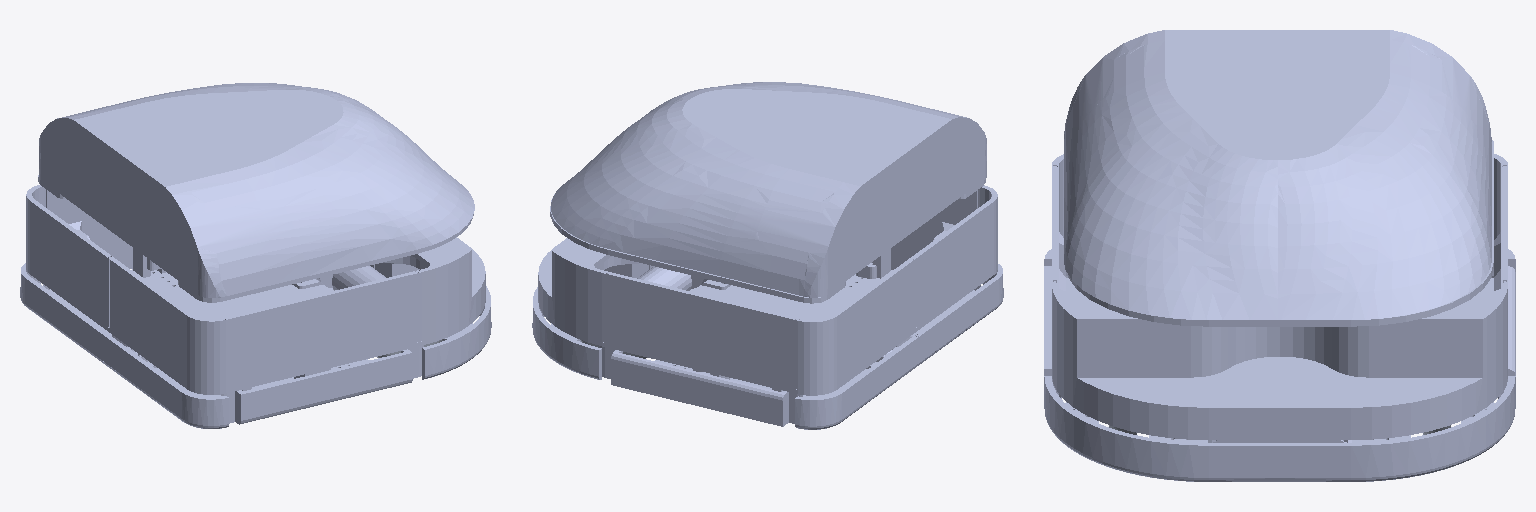
robot.urdf — bada_g2_description:
<?xml version="1.0" encoding="utf-8"?>
<!-- This URDF was automatically created by SolidWorks to URDF Exporter! Originally created by [author] ([email redacted]) 
     Commit Version: 1.5.1-0-g916b5db  Build Version: 1.5.7152.31018
     For more information, please see http://wiki.ros.org/sw_urdf_exporter -->
<robot
  name="bada_g2_description">
  <link
    name="base_footprint_link">
  </link>
  <link
    name="base_link">
    <inertial>
      <origin
        xyz="0 0 0.137811398780425"
        rpy="0 0 0" />
      <mass
        value="7.21845660038506" />
      <inertia
        ixx="0.0406882353905042"
        ixy="1.07764868445934E-06"
        ixz="0.00163731386802838"
        iyy="0.0420116717478872"
        iyz="1.3334920258216E-06"
        izz="0.0765562030870485" />
    </inertial>
    <visual>
      <origin
        xyz="0 0 0"
        rpy="0 0 0" />
      <geometry>
        <mesh
          filename="package://bada_g2_description/meshes/base_link.STL" />
      </geometry>
      <material
        name="">
        <color
          rgba="0.792156862745098 0.819607843137255 0.933333333333333 1" />
      </material>
    </visual>
    <collision>
      <origin
        xyz="0 0 0"
        rpy="0 0 0" />
      <geometry>
        <mesh
          filename="package://bada_g2_description/meshes/base_link.STL" />
      </geometry>
    </collision>
    <collision name="caster_front_collision">
      <origin rpy=" 0 0 0" xyz="-0.13 0 -0.0052"/>
      <geometry>
      <sphere radius="0.007"/>
      </geometry>
      <surface>
      <friction>
        <ode>
        <mu>0</mu>
        <mu2>0</mu2>
        <slip1>1.0</slip1>
        <slip2>1.0</slip2>
        </ode>
      </friction>
      </surface>
    </collision>
    <visual name="caster_front_visual">
      <origin rpy=" 0 0 0" xyz="-0.13 0 -0.0052"/>
      <geometry>
      <sphere radius="0.007"/>
      </geometry>
    </visual>
  </link>
  <joint
    name="base_link_joint"
    type="fixed">
    <origin
      xyz="0 0 -0.075"
      rpy="0 0 0" />
    <parent
      link="base_footprint_link" />
    <child
      link="base_link" />
    <axis
      xyz="0 0 0" />
  </joint>
  <link
    name="L_link">
    <inertial>
      <origin
        xyz="2.77555756156289E-17 -0.0105 0"
        rpy="0 0 0" />
      <mass
        value="0.0812700200410188" />
      <inertia
        ixx="4.08495570817307E-05"
        ixy="-9.67407626570133E-20"
        ixz="-2.33937016987653E-21"
        iyy="7.66250906473836E-05"
        iyz="-2.5553360511772E-22"
        izz="4.08495570817308E-05" />
    </inertial>
    <visual>
      <origin
        xyz="0 0 0"
        rpy="0 0 0" />
      <geometry>
        <mesh
          filename="package://bada_g2_description/meshes/L_link.STL" />
      </geometry>
      <material
        name="">
        <color
          rgba="0.666666666666667 0.698039215686274 0.768627450980392 1" />
      </material>
    </visual>
    <collision>
      <origin
        xyz="0 0 0"
        rpy="0 0 0" />
      <geometry>
        <mesh
          filename="package://bada_g2_description/meshes/L_link.STL" />
      </geometry>
    </collision>
  </link>
  <joint
    name="L_joint"
    type="continuous">
    <origin
      xyz="0.0783012581840955 0.120003013664007 0.0330000000000001"
      rpy="0 0 0" />
    <parent
      link="base_link" />
    <child
      link="L_link" />
    <axis
      xyz="0 1 0" />
  </joint>
  <link
    name="R_link">
    <inertial>
      <origin
        xyz="-2.77555756156289E-17 0.0105 0"
        rpy="0 0 0" />
      <mass
        value="0.0812700200410188" />
      <inertia
        ixx="4.08495570817307E-05"
        ixy="-9.67407626570133E-20"
        ixz="-2.33937016987653E-21"
        iyy="7.66250906473836E-05"
        iyz="-2.5553360511772E-22"
        izz="4.08495570817308E-05" />
    </inertial>
    <visual>
      <origin
        xyz="0 0 0"
        rpy="0 0 0" />
      <geometry>
        <mesh
          filename="package://bada_g2_description/meshes/R_link.STL" />
      </geometry>
      <material
        name="">
        <color
          rgba="0.666666666666667 0.698039215686274 0.768627450980392 1" />
      </material>
    </visual>
    <collision>
      <origin
        xyz="0 0 0"
        rpy="0 0 0" />
      <geometry>
        <mesh
          filename="package://bada_g2_description/meshes/R_link.STL" />
      </geometry>
    </collision>
  </link>
  <joint
    name="R_joint"
    type="continuous">
    <origin
      xyz="0.0783012581840955 -0.120003013664007 0.0330000000000001"
      rpy="0 0 0" />
    <parent
      link="base_link" />
    <child
      link="R_link" />
    <axis
      xyz="0 1 0" />
  </joint>


  <!-- rplidar -->

  <joint name="rplidar_joint" type="fixed">
    <axis xyz="0 1 0" />
    <origin xyz="0.145 0 0.085" rpy="0 0 0"/> <!--rpy : 0 0 3.14-->
    <parent link="base_link"/>
    <child link="laser"/>
  </joint>


  <link name="laser">
    <collision>
      <origin xyz="0 0 -0.0308" rpy="1.5707 0 4.71"/>
      <geometry>
        <mesh filename="package://my_mobile/meshes/rplidar.dae" scale="0.001 0.001 0.001" />
      </geometry>
    </collision>

    <visual>
      <origin xyz="0 0 -0.0308" rpy="1.5707 0 4.71"/>
      <geometry>
        <mesh filename="package://my_mobile/meshes/rplidar.dae" scale="0.001 0.001 0.001" />
      </geometry>
    </visual>

    <inertial>
      <mass value="1e-5" />
      <origin xyz="0 0 -0.0308" rpy="1.5707 0 4.71"/>
      <inertia ixx="0" ixy="0" ixz="0" iyy="0" iyz="0" izz="0" />
    </inertial>
  </link>

<!-- plugin -->

  <gazebo>
    <plugin filename="libgazebo_ros_diff_drive.so" name="differential_drive_controller">
      <legacyMode>false</legacyMode>
      <alwaysOn>true</alwaysOn>
      <updateRate>20</updateRate>
      <leftJoint>L_joint</leftJoint>
      <rightJoint>R_joint</rightJoint>
      <wheelSeparation>0.22</wheelSeparation>
      <wheelDiameter>0.084</wheelDiameter>
      <torque>0.1</torque>
      <commandTopic>cmd_vel</commandTopic>
      <odometryTopic>odom</odometryTopic>
      <odometryFrame>odom</odometryFrame>
      <robotBaseFrame>base_link</robotBaseFrame>
      <rosDebugLevel>ns</rosDebugLevel>
      <publishWheelTF>false</publishWheelTF>
      <publishOdomTF>true</publishOdomTF>
      <publishWheelJointState>false</publishWheelJointState>
      <wheelAcceleration>0</wheelAcceleration>
      <wheelTorque>5</wheelTorque>
      <odometrySource>1</odometrySource>
      <publishTf>1</publishTf>
    </plugin>
  </gazebo>

<gazebo reference="laser">
    <sensor type="ray" name="head_rplidar_sensor">
      <pose>0 0 0.06 0 0 0</pose>
      <visualize>true</visualize>
      <update_rate>40</update_rate>
      <ray>
        <scan>
          <horizontal>
            <samples>720</samples>
            <resolution>1</resolution>
            <min_angle>1.57079632</min_angle>
            <max_angle>-1.57079632</max_angle>
          </horizontal>
        </scan>
        <range>
          <min>0.15</min>
          <max>6.0</max>
          <resolution>0.01</resolution>
        </range>
        <noise>
          <type>gaussian</type>
          <mean>0.0</mean>
          <stddev>0.01</stddev>
        </noise>
      </ray>
      <plugin name="gazebo_ros_head_rplidar_controller" filename="libgazebo_ros_laser.so">
        <topicName>scan</topicName>
        <frameName>laser</frameName>
      </plugin>
    </sensor>
  </gazebo> 

</robot>

--- Render facts (derived) ---
Views: 3 orthographic renders of the robot side by side, from view 1: azimuth 30°, elevation 25°; view 2: azimuth 150°, elevation 25°; view 3: azimuth 270°, elevation 25°.
Model bada_g2_description with 5 links and 4 joints (2 continuous, 2 fixed), rooted at base_footprint_link, posed all joints at 0.
Links seen in each view (by area): view 1: base_link; view 2: base_link; view 3: base_link.
Link boxes in pixels (bbox=[...]): base_link: bbox=[20, 83, 491, 428]; base_link: bbox=[532, 82, 1003, 429]; base_link: bbox=[1044, 30, 1515, 481].
Bounding box of the posed robot: 0.34 × 0.33 × 0.2122 m (x, y, z).
3 mesh visuals loaded from 4 distinct referenced files (3 binary STL); not drawn: 1 (reference not matched to a file when rendering).
